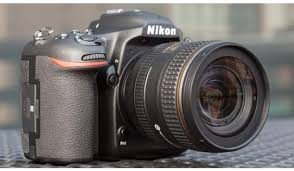camera: (23, 14, 269, 162)
